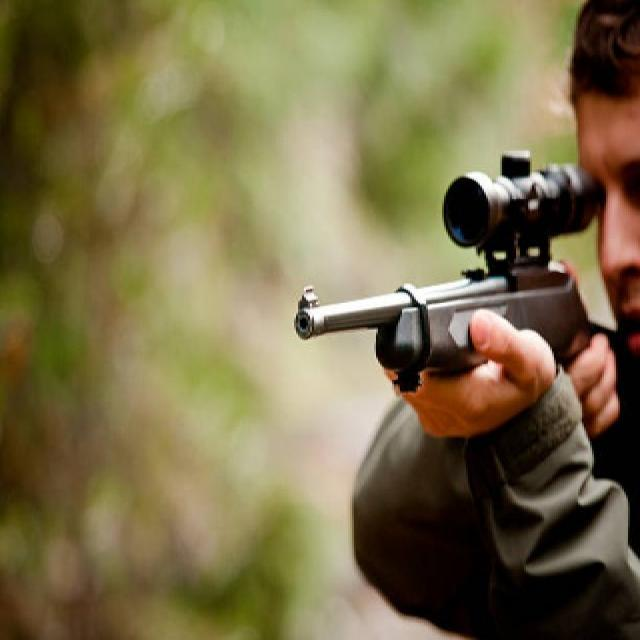weapon: (278, 130, 608, 392)
